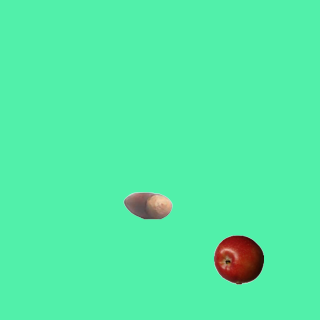Apple Braeburn: (213, 234, 263, 284)
Hazelnut: (122, 180, 172, 230)
